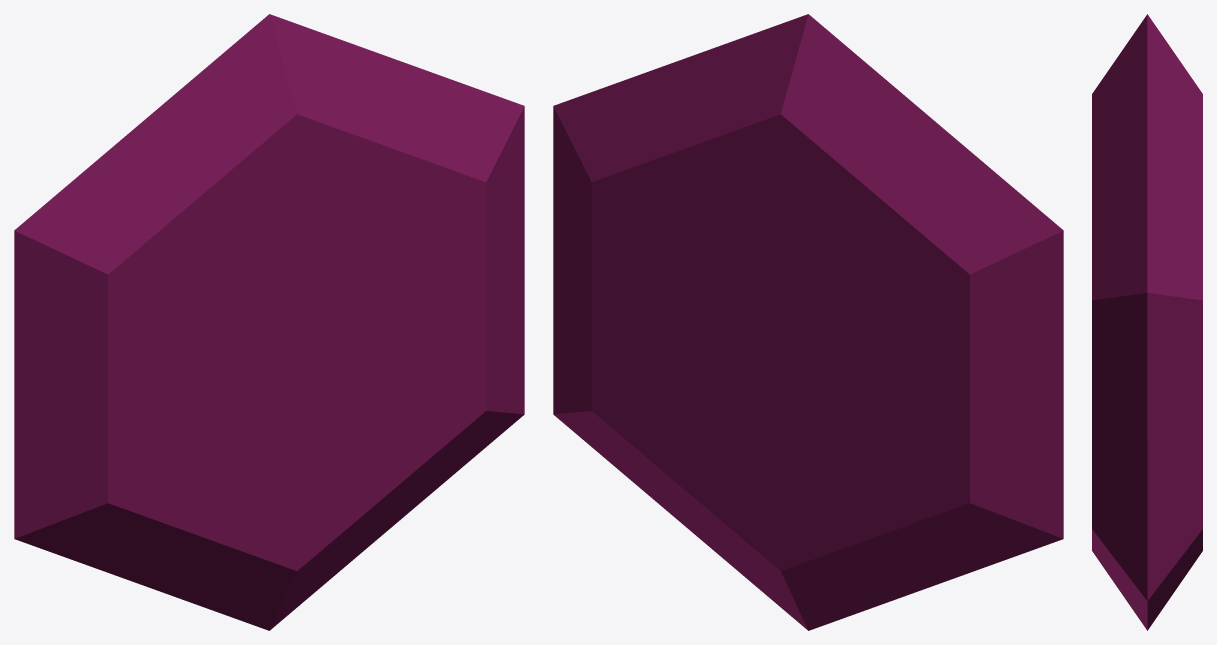
Rendered from item.fbx.
The picture shows the model from 3 angles, left to right: view 1: azimuth 30°, elevation 25°; view 2: azimuth 150°, elevation 25°; view 3: azimuth 270°, elevation 25°; orthographic projection.
Parts seen in each view (by area): view 1: Cylinder; view 2: Cylinder; view 3: Cylinder.
Boxes of the visible parts, x1,y1,x2,y2 form: Cylinder: (14, 14, 524, 630); Cylinder: (553, 14, 1063, 630); Cylinder: (1092, 14, 1202, 630).
Size of the model in its own units: 234 by 270 by 43.94.
